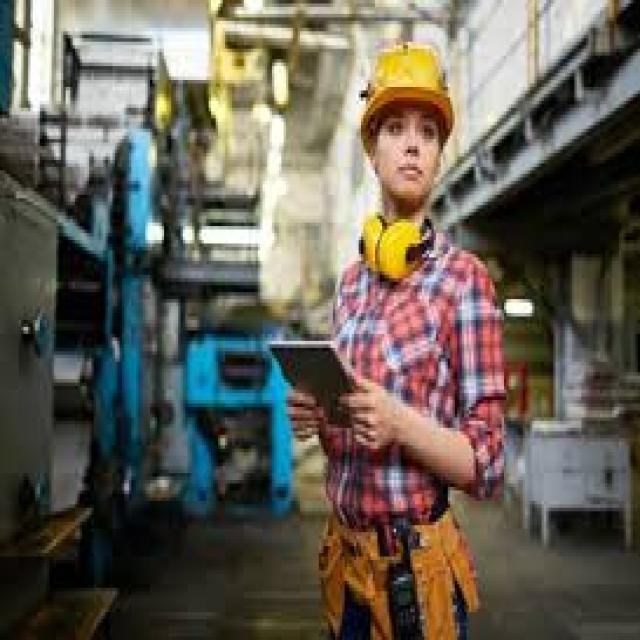Ear-Protection: (352, 202, 419, 282)
Helmet: (342, 21, 467, 132)
